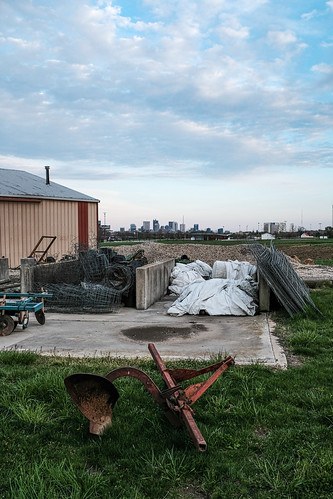building: (1, 163, 101, 279)
sky: (7, 1, 333, 206)
